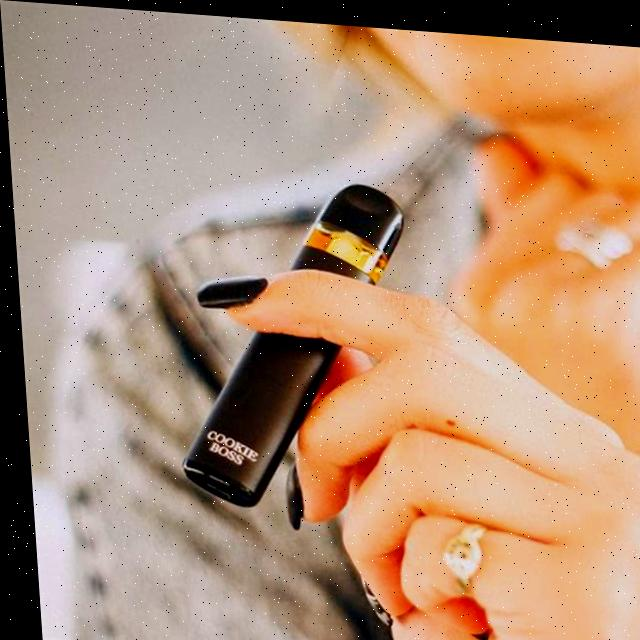vape: (156, 163, 418, 511)
